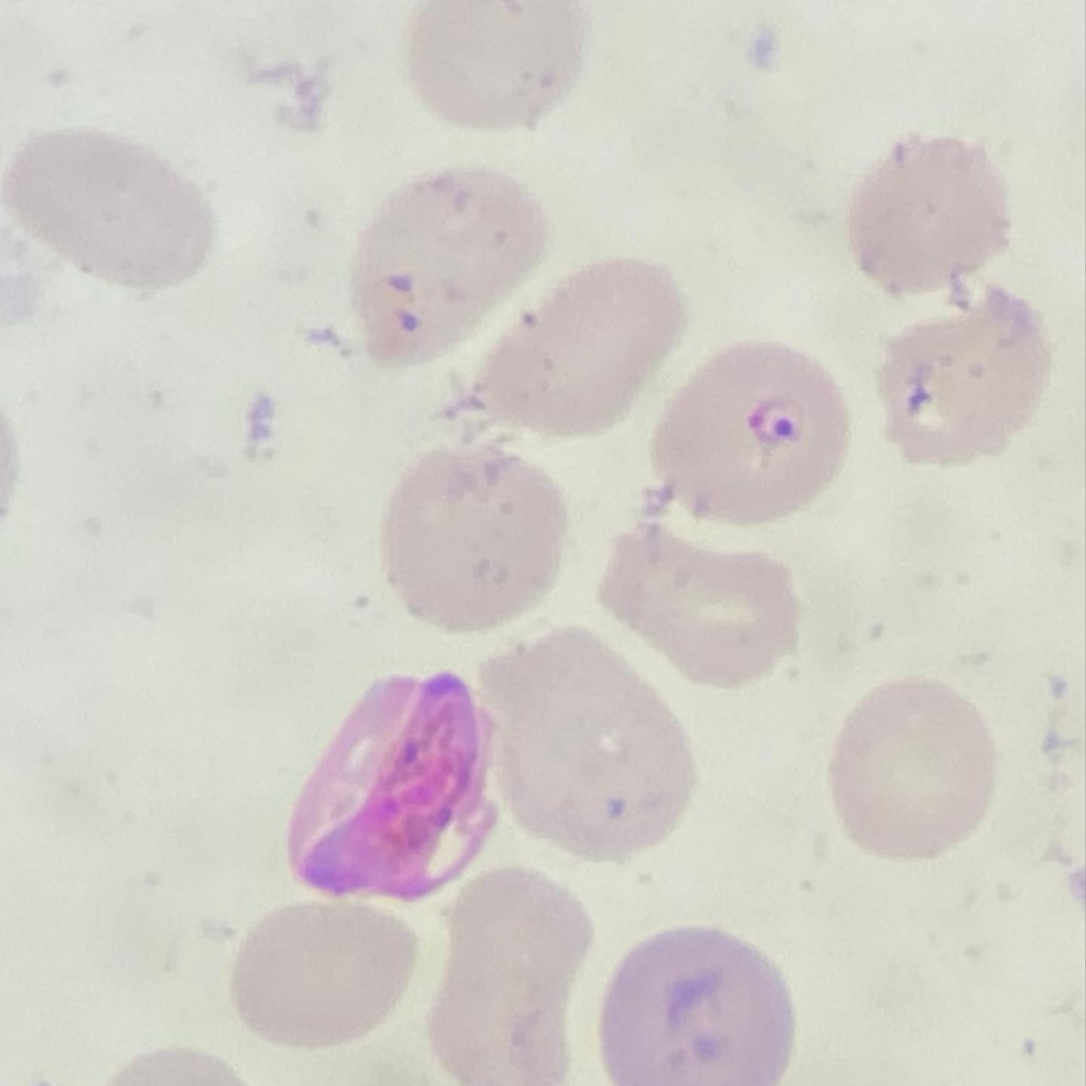Infected: (281, 670, 499, 899), (651, 336, 854, 522)
Uninfected: (472, 623, 688, 861), (351, 159, 547, 356), (485, 253, 688, 436), (430, 866, 595, 1086), (4, 127, 218, 291), (387, 451, 570, 632), (600, 923, 793, 1086), (604, 531, 802, 689), (877, 295, 1047, 474), (834, 679, 994, 863), (232, 904, 420, 1051), (408, 0, 583, 131), (847, 146, 1004, 290)
